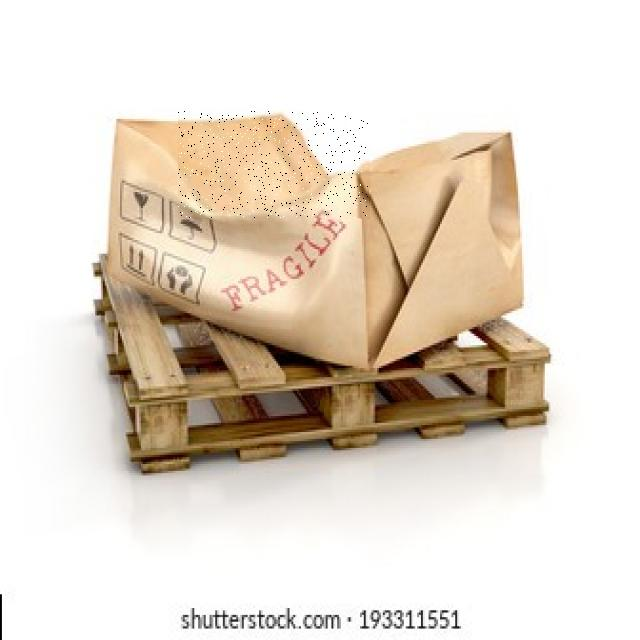squeeze: (179, 112, 368, 218)
